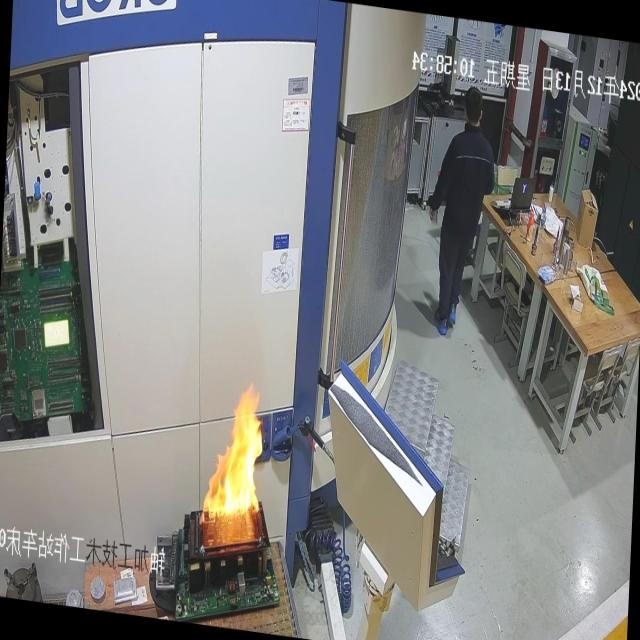fire: (181, 354, 284, 581)
